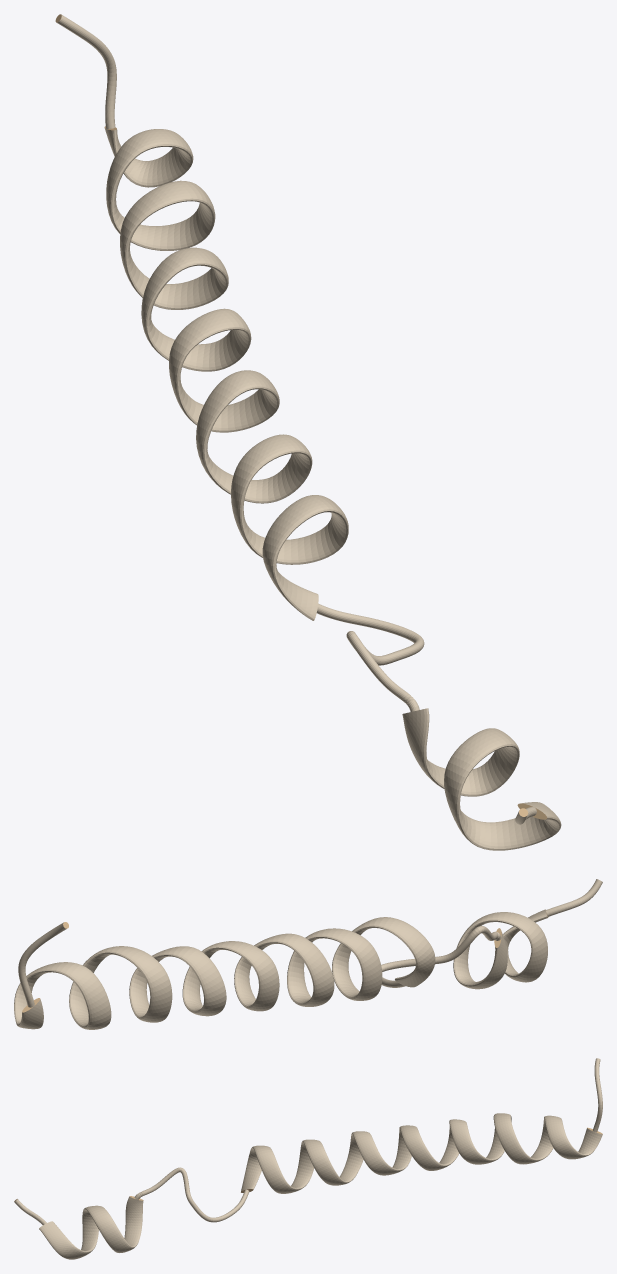
The model's file is rCoilrCoilrCoil.dae.
The picture shows the model from 3 angles, top to bottom: view 1: azimuth 30°, elevation 25°; view 2: azimuth 150°, elevation 25°; view 3: azimuth 270°, elevation 25°; orthographic projection. The views are drawn at different scales.
Visible parts, largest first — view 1: Shape_IndexedTriangleStripSet_042; view 2: Shape_IndexedTriangleStripSet_042; view 3: Shape_IndexedTriangleStripSet_042.
Part boxes in pixels (x1,y1,x2,y2): Shape_IndexedTriangleStripSet_042: (55,14,561,850); Shape_IndexedTriangleStripSet_042: (14,879,602,1029); Shape_IndexedTriangleStripSet_042: (14,1058,602,1259).
Size of the model in its own units: 13.82 by 61.6 by 25.16.
